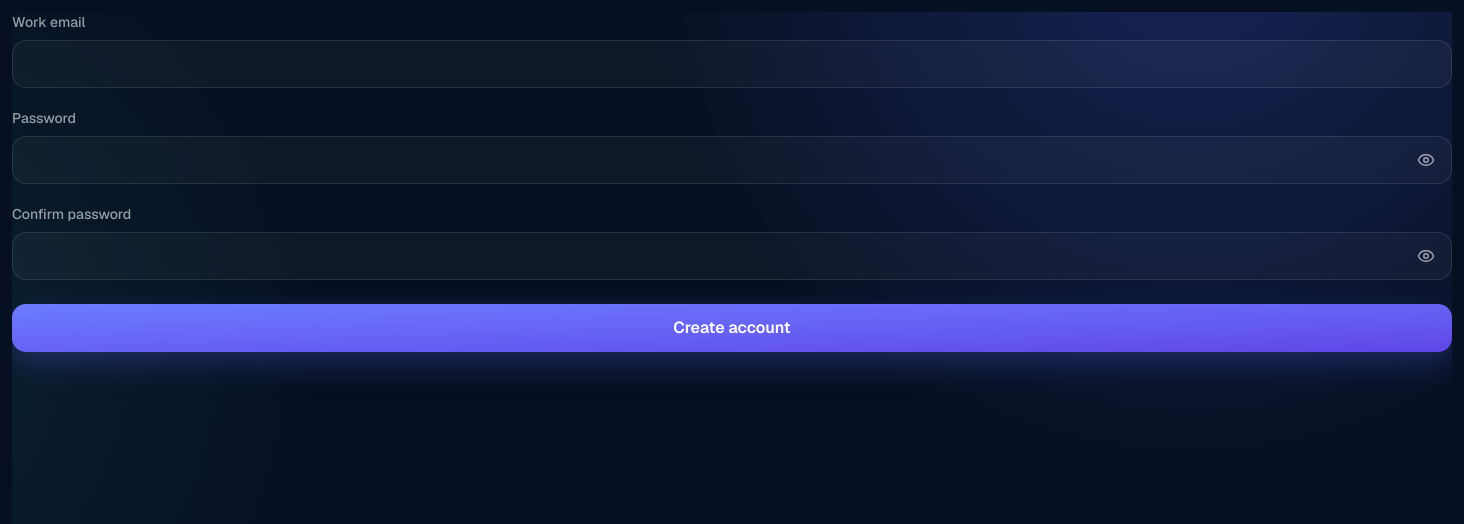
Test: auth polish › requires matching password confirmation during signup
Expected: the password field labelled "Confirm password" is shown, [12,232,1452,280]
Type "owner@example.com" into the field labelled "Work email". click: {"x": 732, "y": 64}
box: [12,40,1452,88]
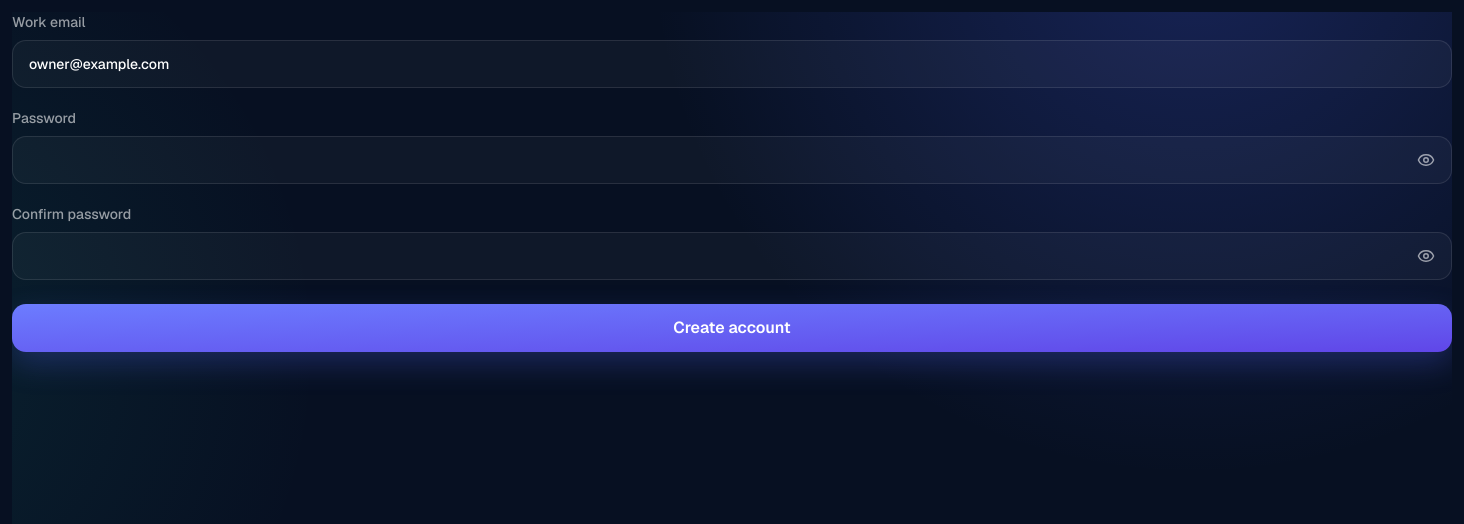
Type "strong-pass-1" into the password field labelled "Password". click: {"x": 732, "y": 160}
box: [12,136,1452,184]
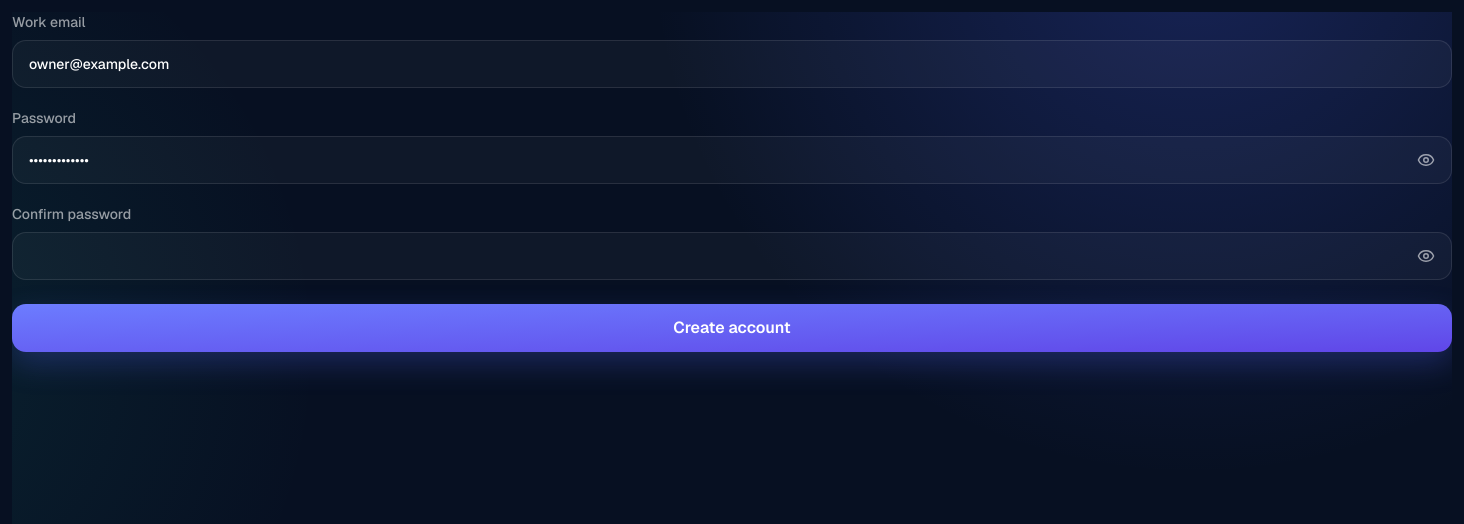
Type "different-pass" into the password field labelled "Confirm password". click: {"x": 732, "y": 256}
box: [12,232,1452,280]
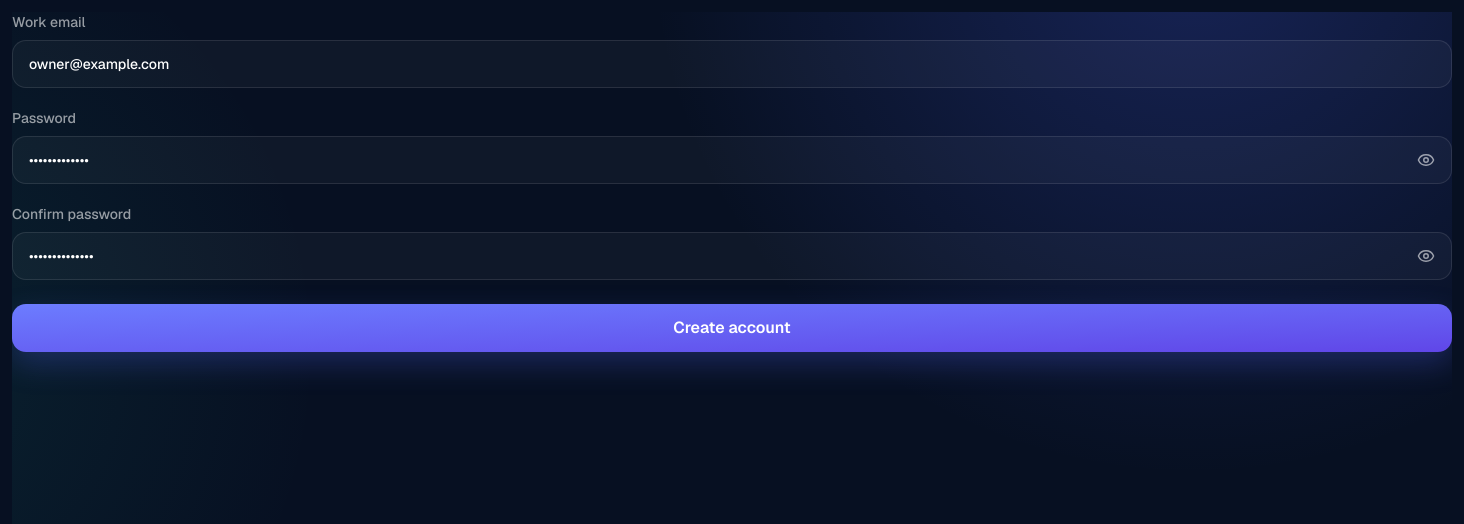
Click the button "Create account". click: {"x": 732, "y": 328}
box: [12,304,1452,352]
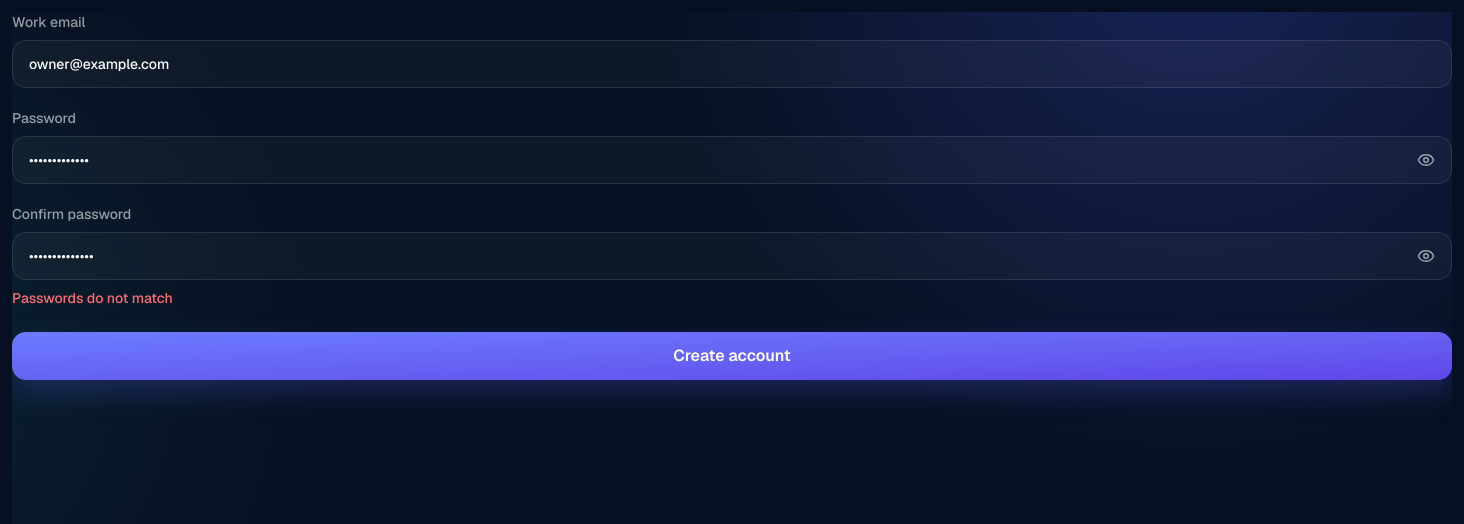
Result: the text "Passwords do not match" is shown at [12,289,173,307]
